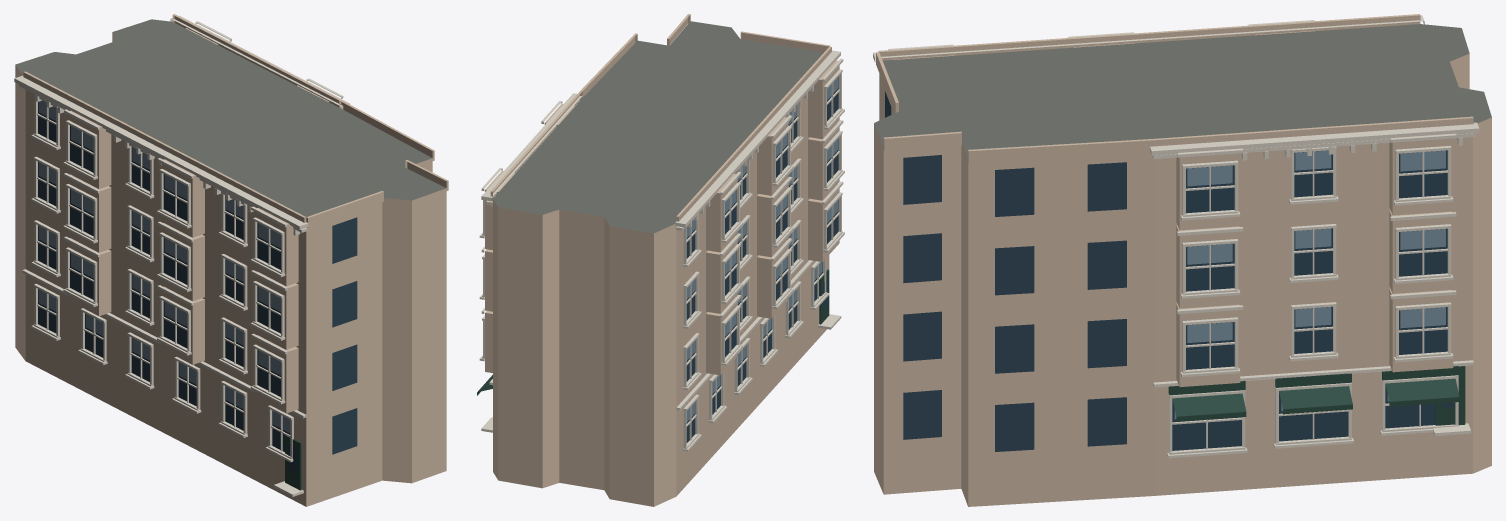
The picture shows the model from 3 angles, left to right: view 1: azimuth 30°, elevation 25°; view 2: azimuth 150°, elevation 25°; view 3: azimuth 270°, elevation 25°; orthographic projection. The views are drawn at different scales.
Visible parts, largest first — view 1: Footprint 0 / surface 2, Footprint 0 / surface 1, Cornices and window frames, Facade bay volumes, Inset glazing, Sky reflection panels, Storefronts and doors; view 2: Footprint 0 / surface 2, Footprint 0 / surface 1, Cornices and window frames, Facade bay volumes, Inset glazing, Sky reflection panels, Storefronts and doors; view 3: Footprint 0 / surface 2, Footprint 0 / surface 1, Inset glazing, Cornices and window frames, Facade bay volumes, Storefronts and doors, Sky reflection panels.
Part boxes in pixels (bbox=[...]): Footprint 0 / surface 2: bbox=[15, 32, 446, 506]; Footprint 0 / surface 1: bbox=[15, 19, 445, 216]; Cornices and window frames: bbox=[14, 15, 350, 496]; Facade bay volumes: bbox=[23, 14, 448, 413]; Inset glazing: bbox=[38, 102, 357, 473]; Sky reflection panels: bbox=[38, 100, 290, 432]; Storefronts and doors: bbox=[285, 435, 301, 490]; Footprint 0 / surface 2: bbox=[493, 97, 829, 506]; Footprint 0 / surface 1: bbox=[493, 21, 823, 233]; Cornices and window frames: bbox=[479, 50, 844, 451]; Facade bay volumes: bbox=[485, 14, 839, 375]; Inset glazing: bbox=[686, 76, 838, 442]; Sky reflection panels: bbox=[686, 77, 838, 422]; Storefronts and doors: bbox=[477, 269, 829, 395]; Footprint 0 / surface 2: bbox=[874, 53, 1491, 506]; Footprint 0 / surface 1: bbox=[874, 24, 1491, 158]; Inset glazing: bbox=[885, 91, 1459, 451]; Cornices and window frames: bbox=[873, 15, 1479, 458]; Facade bay volumes: bbox=[876, 14, 1473, 386]; Storefronts and doors: bbox=[1168, 366, 1465, 425]; Sky reflection panels: bbox=[1174, 150, 1445, 419].
Size of the model in its own units: 12.3 by 14.42 by 22.65.
